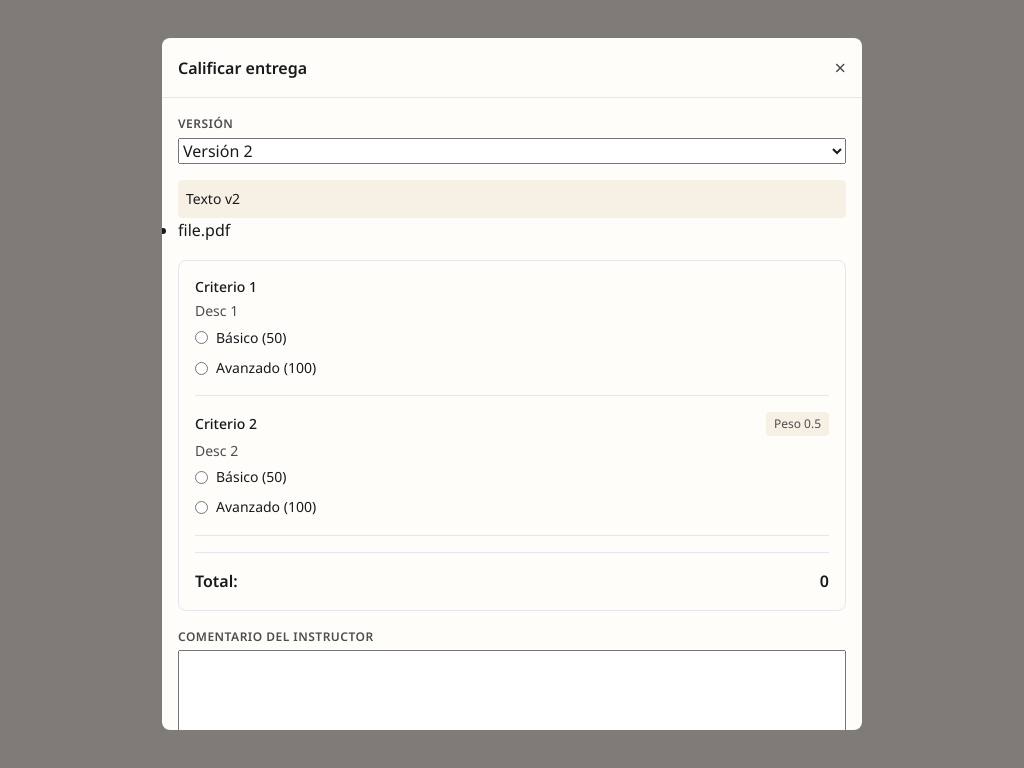
it: CalificarEntregaModal › calculates puntaje correctly
Click the radio button with test id "nivel-radio-c1" below "Desc 1": (202, 338) top-left (195, 331), bottom-right (208, 344)
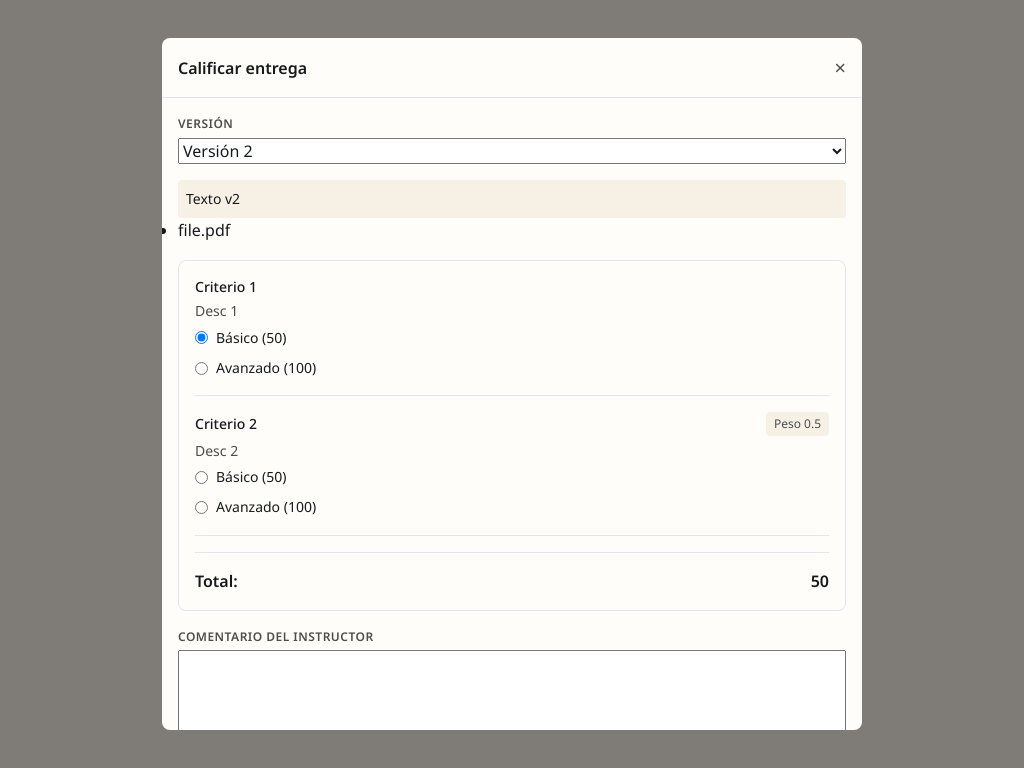
Click the radio button with test id "nivel-radio-c2" below "Desc 2": (202, 508) top-left (195, 501), bottom-right (208, 514)
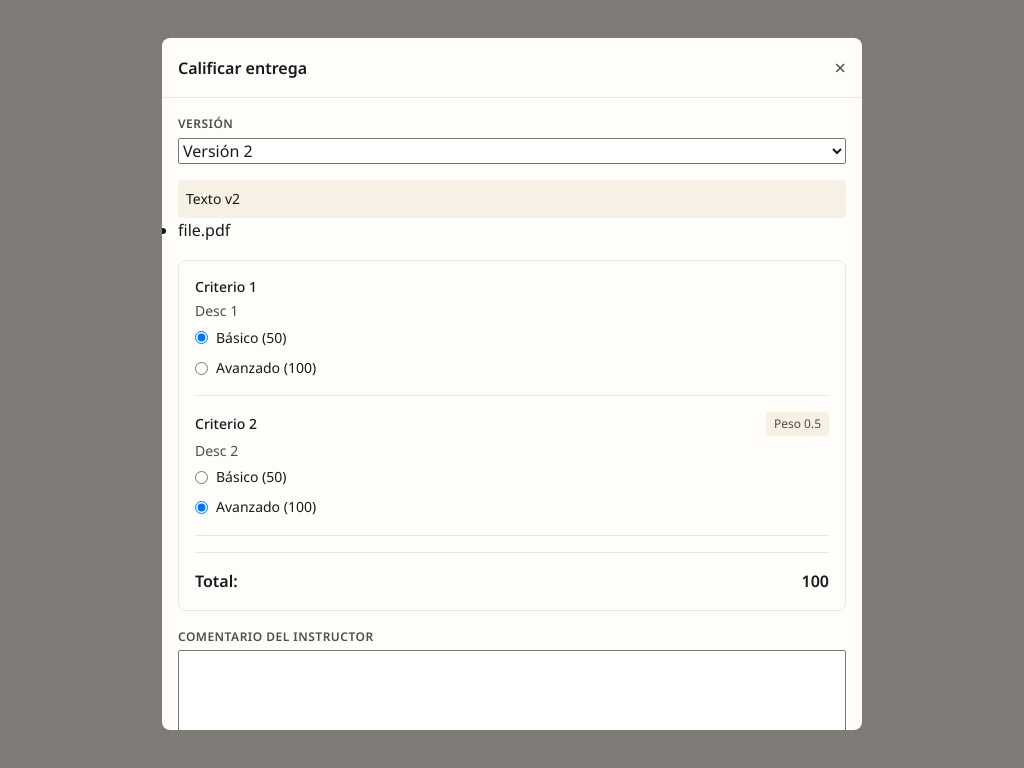
Check: the text with test id "puntaje-total" reads "100", box top-left (802, 570), bottom-right (829, 592)
